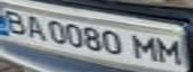0: (100, 28, 127, 56), (42, 18, 69, 46), (63, 21, 84, 50)
8: (81, 25, 103, 53)
A: (21, 12, 48, 41)
B: (0, 7, 30, 35)
M: (127, 32, 163, 62), (154, 35, 187, 65)
